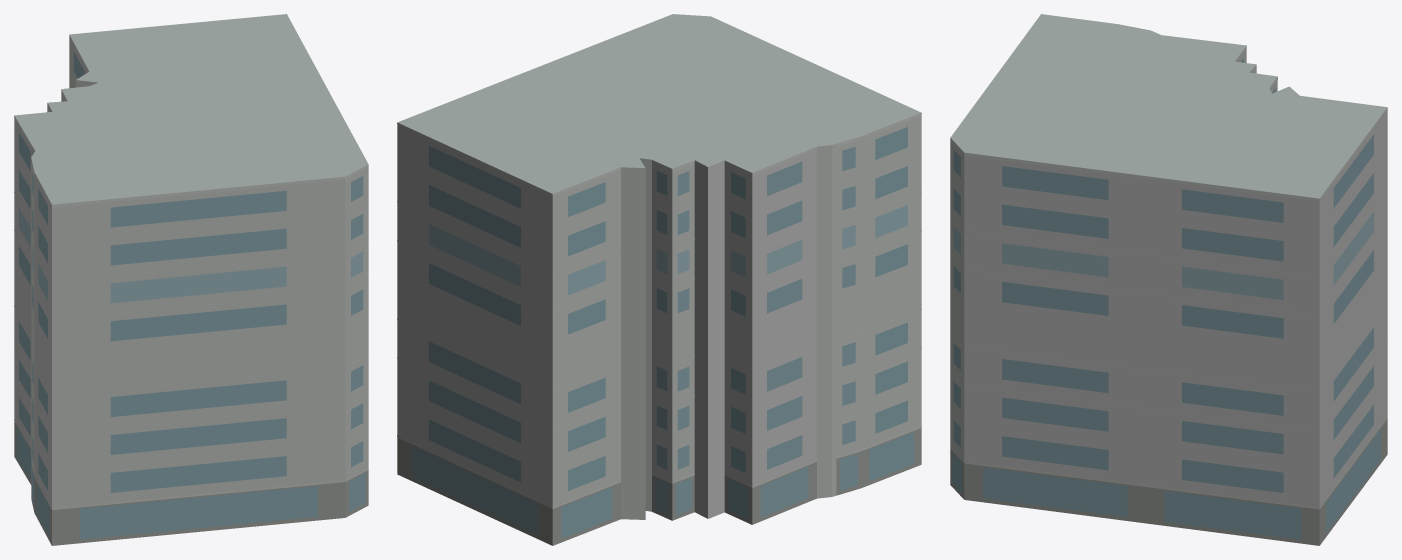
Rendered from survey-upis-32876091.glb.
3 views of the same model, side by side, from view 1: azimuth 30°, elevation 25°; view 2: azimuth 150°, elevation 25°; view 3: azimuth 270°, elevation 25° (orthographic). The views are drawn at different scales.
Parts seen in each view (by area): view 1: survey-upis-32876091.tmp; view 2: survey-upis-32876091.tmp; view 3: survey-upis-32876091.tmp.
Part boxes in pixels (x1,y1,x2,y2): survey-upis-32876091.tmp: [14, 14, 368, 545]; survey-upis-32876091.tmp: [397, 14, 921, 545]; survey-upis-32876091.tmp: [950, 14, 1387, 545].
Size of the model in its own units: 30.24 by 26.5 by 30.26.
